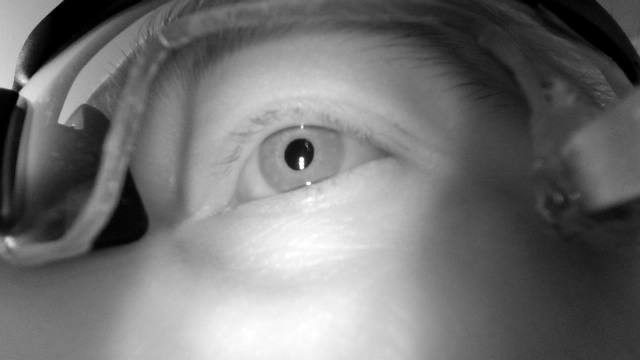pupil: (284, 138, 315, 171)
